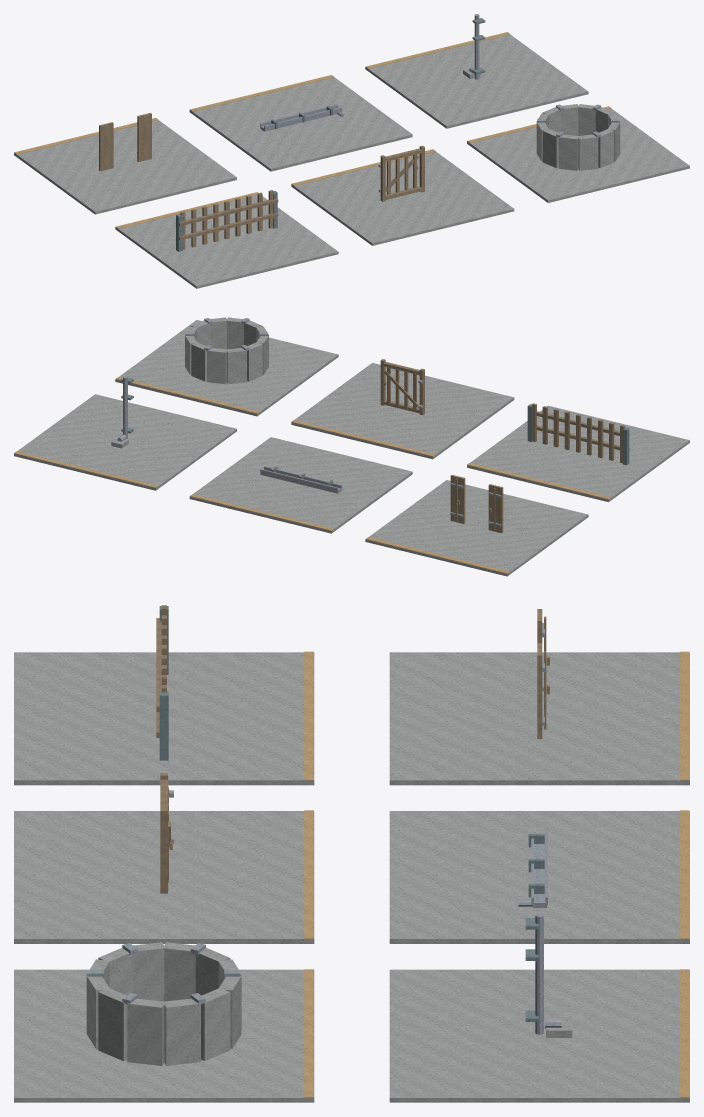
File: level_blockout_kit_wld_14_p05.glb
3 renders of one model, top to bottom at view 1: azimuth 30°, elevation 25°; view 2: azimuth 150°, elevation 25°; view 3: azimuth 270°, elevation 25°, orthographic. The views are drawn at different scales.
Parts seen in each view (by area): view 1: level_blockout_kit_wld_14_p05; view 2: level_blockout_kit_wld_14_p05; view 3: level_blockout_kit_wld_14_p05.
Part boxes in pixels (x1,y1,x2,y2): level_blockout_kit_wld_14_p05: [14, 14, 689, 288]; level_blockout_kit_wld_14_p05: [14, 317, 689, 576]; level_blockout_kit_wld_14_p05: [14, 605, 689, 1102].
Size of the model in its own units: 19.65 by 2.54 by 12.6.
Materials: 6 (6 with a texture image).
